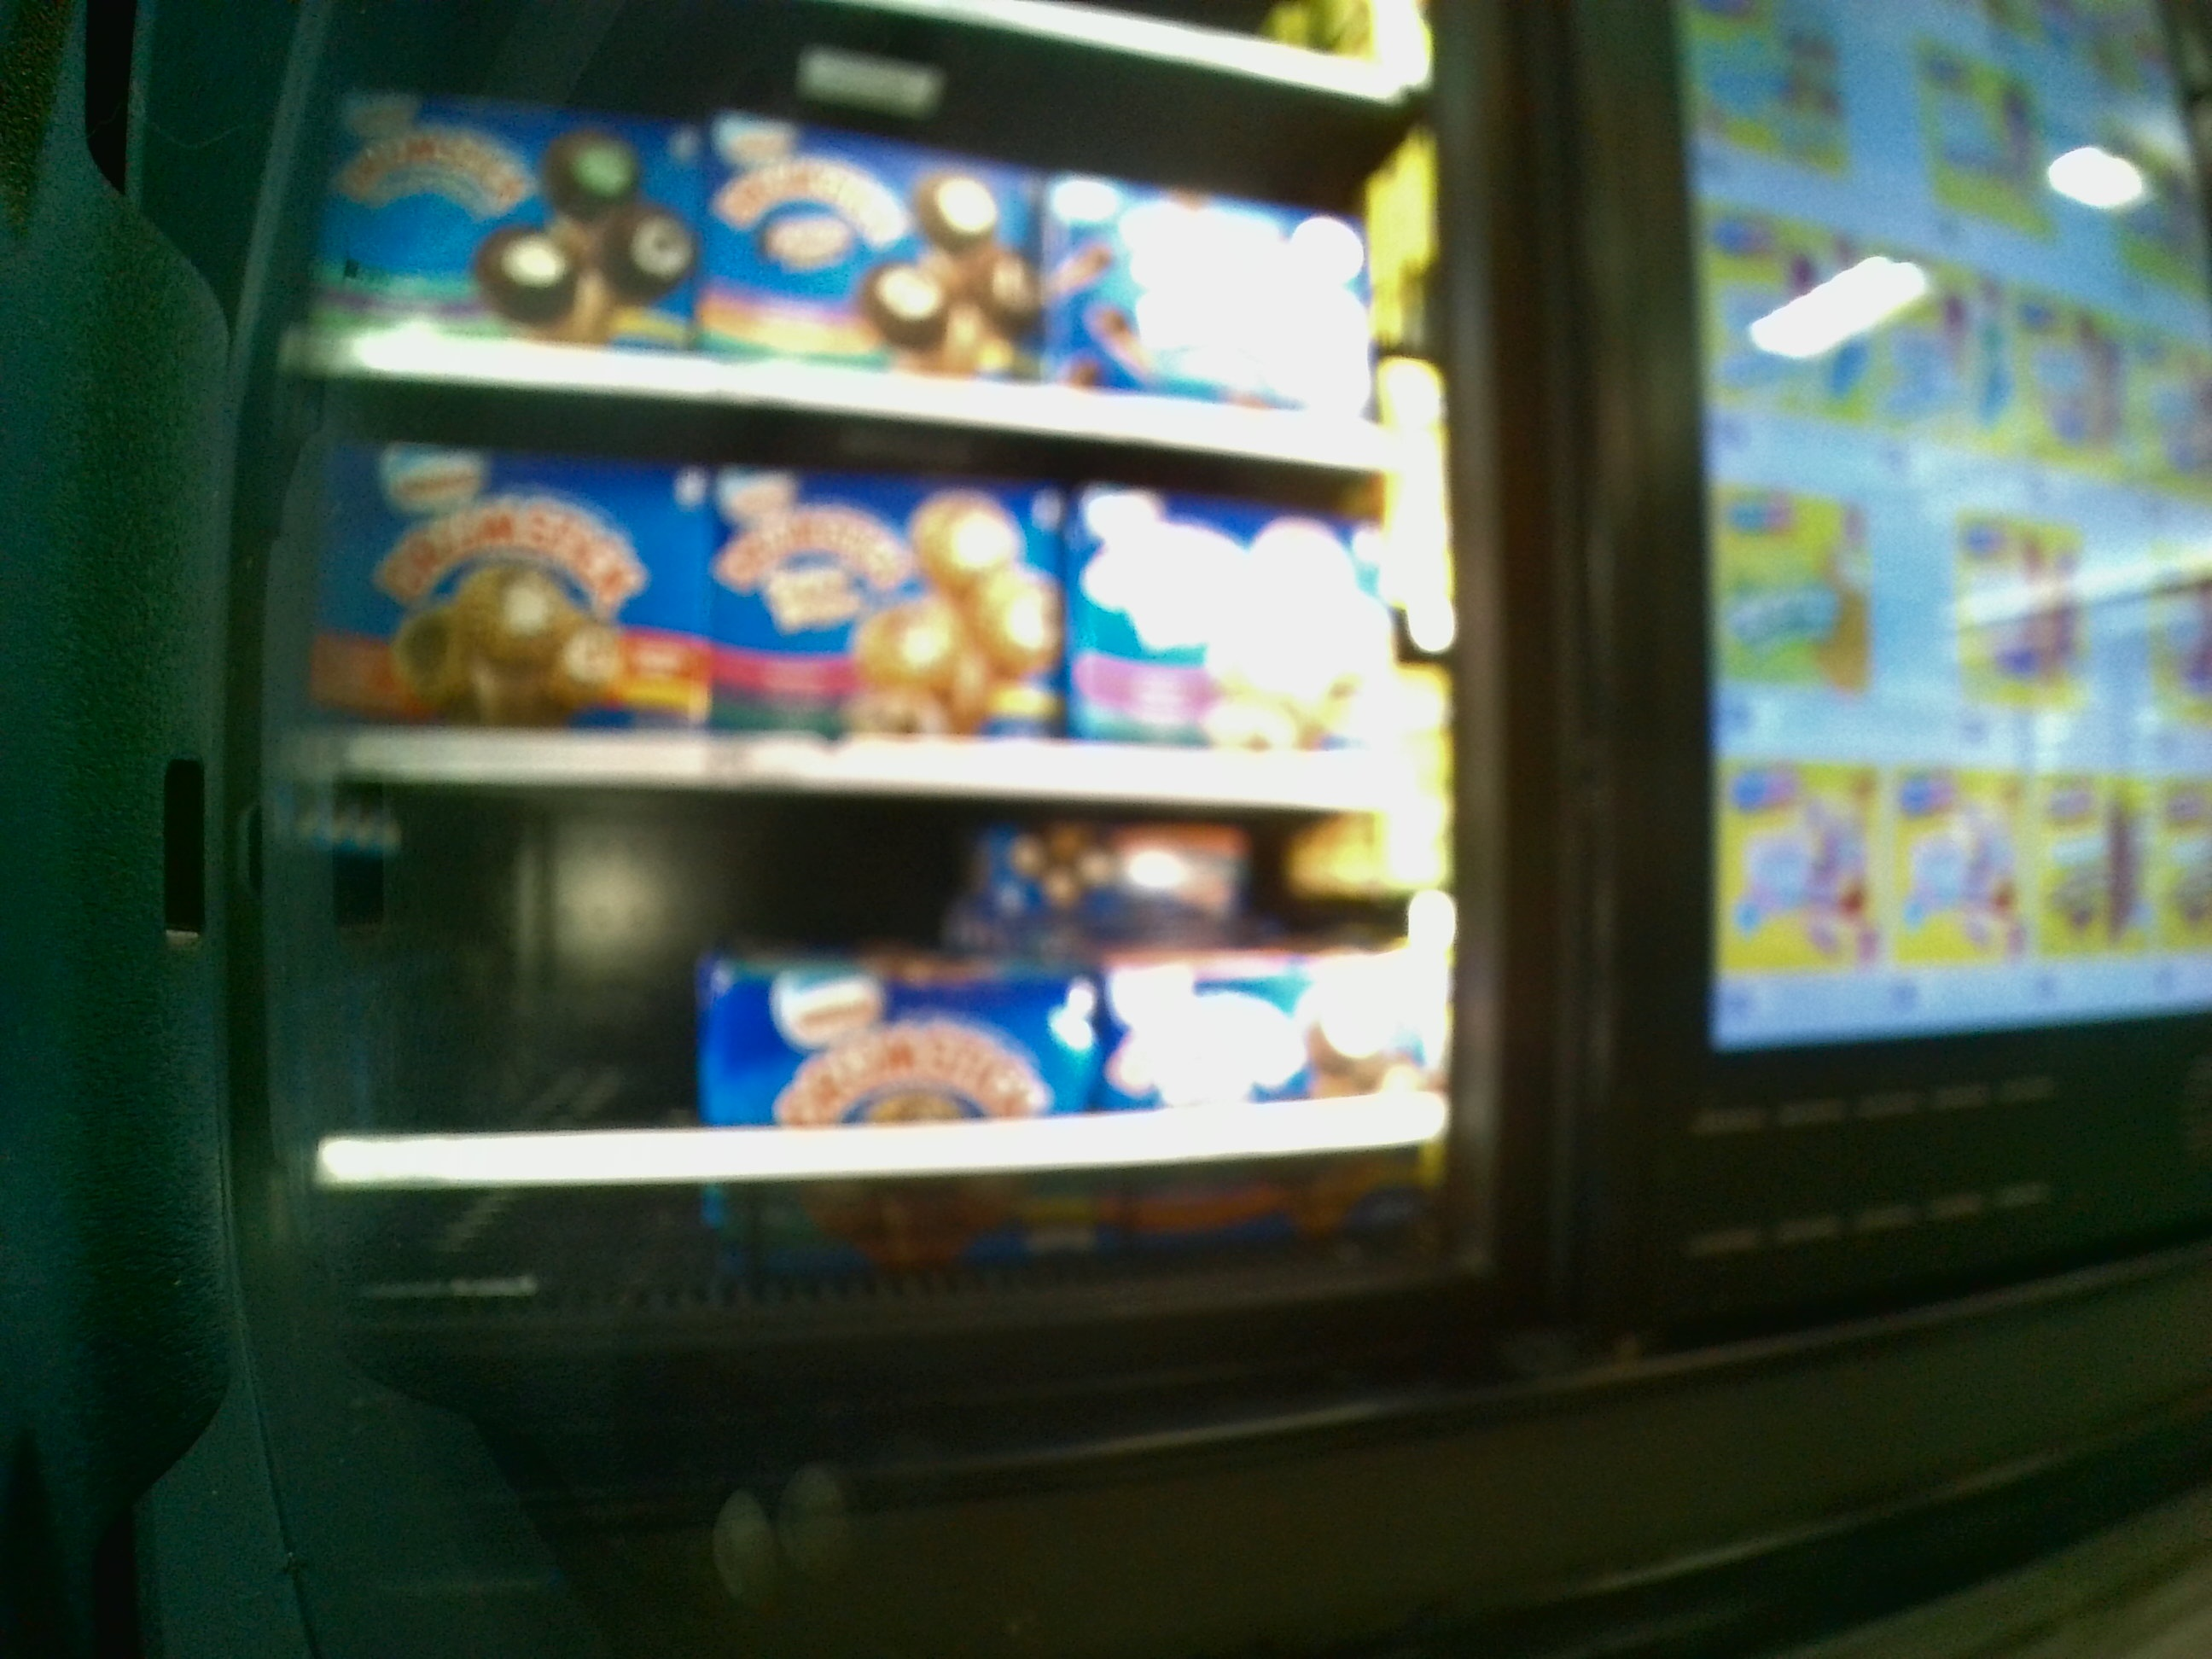shelf: (314, 789, 1440, 1256), (280, 437, 1446, 814)
